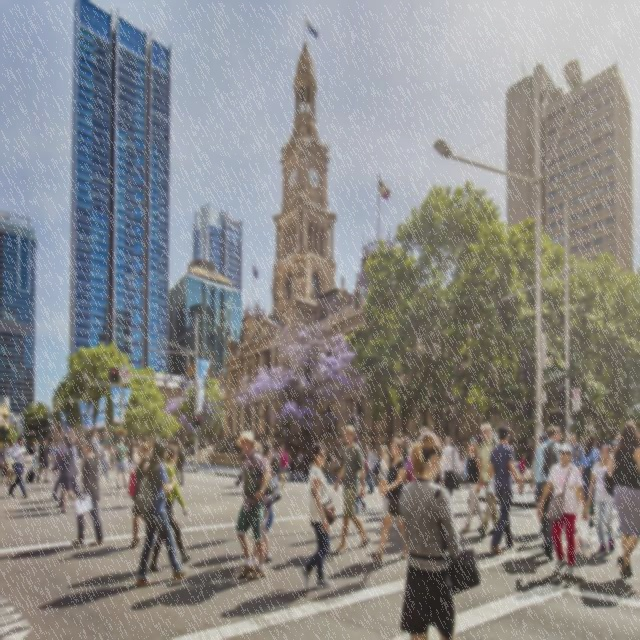pessoa: (0, 542, 390, 622), (397, 430, 465, 639), (498, 549, 638, 619), (132, 440, 191, 588), (536, 442, 590, 578), (146, 439, 194, 574), (298, 440, 338, 594), (233, 428, 270, 582), (484, 422, 524, 556), (370, 435, 410, 564), (608, 421, 640, 581), (334, 423, 372, 555), (532, 423, 562, 562), (585, 442, 617, 557), (71, 438, 104, 547), (357, 422, 412, 483), (126, 440, 155, 551), (476, 421, 501, 540), (461, 435, 488, 536), (528, 432, 550, 536), (578, 432, 601, 529), (412, 426, 446, 488), (57, 439, 78, 514), (260, 440, 276, 536), (7, 434, 30, 500), (440, 435, 462, 499), (568, 433, 586, 511), (59, 433, 77, 502), (451, 433, 472, 491), (269, 435, 293, 475), (114, 433, 130, 491), (126, 437, 142, 495), (354, 440, 366, 516), (48, 433, 64, 482), (377, 444, 390, 502), (36, 436, 51, 484), (276, 443, 290, 490), (364, 443, 376, 495), (328, 444, 344, 483), (252, 439, 272, 468), (174, 439, 186, 487), (98, 440, 111, 484), (4, 438, 15, 486), (89, 428, 101, 471), (62, 436, 78, 468), (604, 436, 622, 463), (517, 448, 527, 492), (29, 438, 41, 471), (108, 437, 118, 469), (301, 451, 310, 482), (134, 435, 145, 460), (78, 434, 86, 466), (296, 449, 304, 478), (602, 525, 622, 536), (124, 443, 130, 474), (574, 441, 584, 459)
